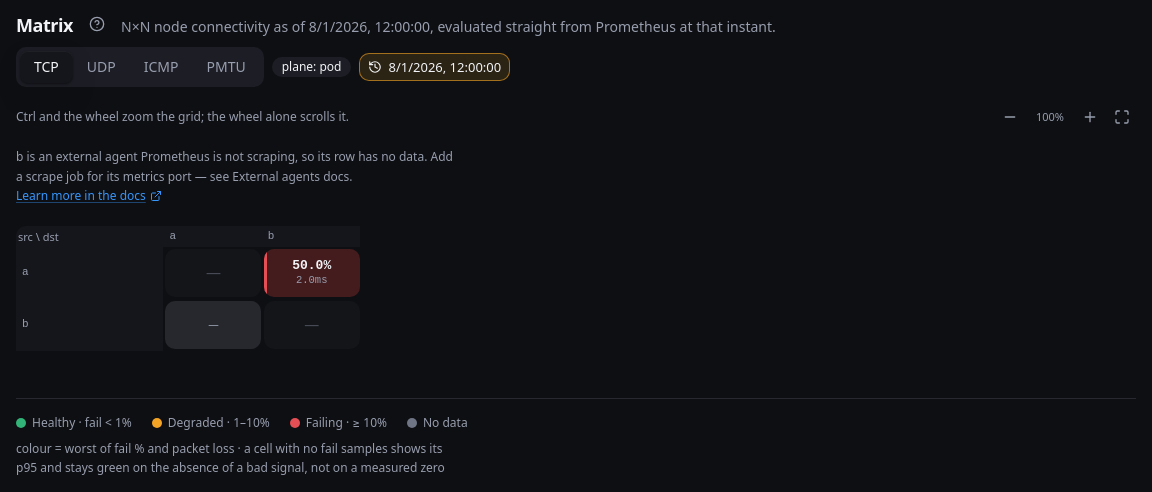
Scenario: MatrixPage engaged at t — a history that knows the external agent › marks the external header from the folded labels, keeping the instant in its link
Hover over the link named "Open the card for b, external agent" at (271, 236), box [268,230,274,242]
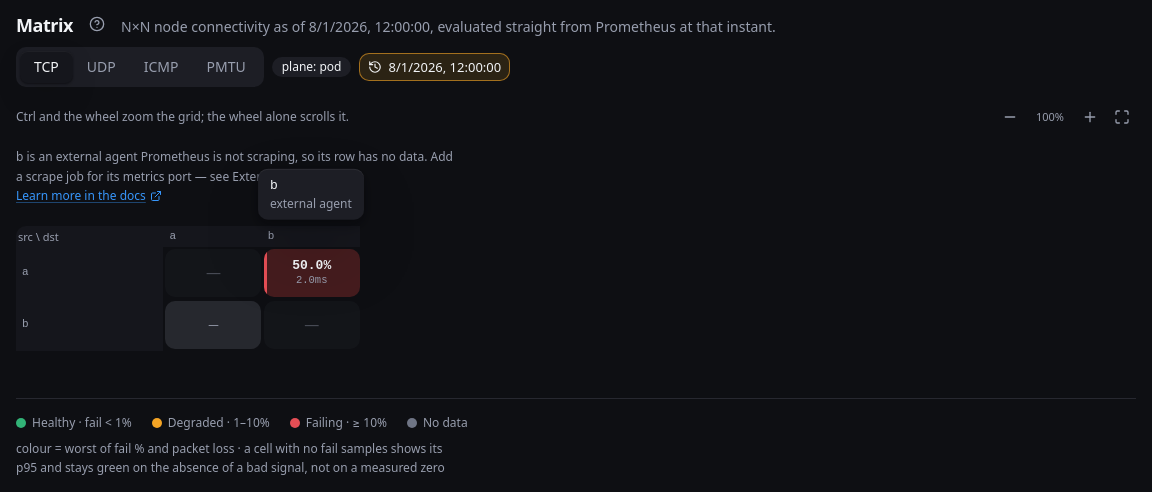
Check: the number of links named "Open the card for a" is 2, box [169,230,176,242]; [22,266,29,278]
Check: the tooltip shows "b", box [270,177,278,192]
Check: the tooltip shows "external agent", box [270,194,352,212]
